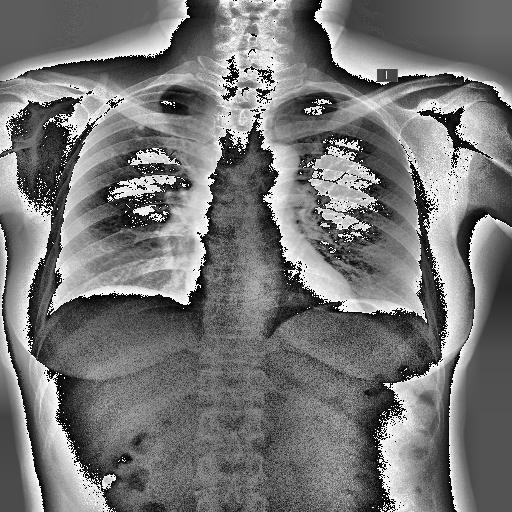13- Pulmonary fibrosis: (128, 124, 148, 143), (130, 120, 144, 141)
2- Calcification: (130, 120, 144, 141)
8- Nodule-Mass: (128, 124, 148, 143)
9- Other lesion: (136, 124, 146, 132)
